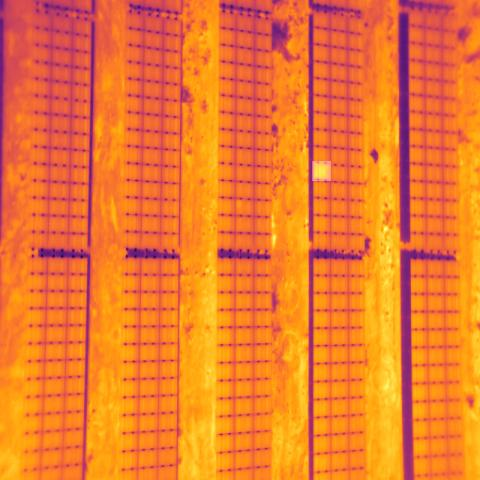fault: (312, 162, 331, 182)
